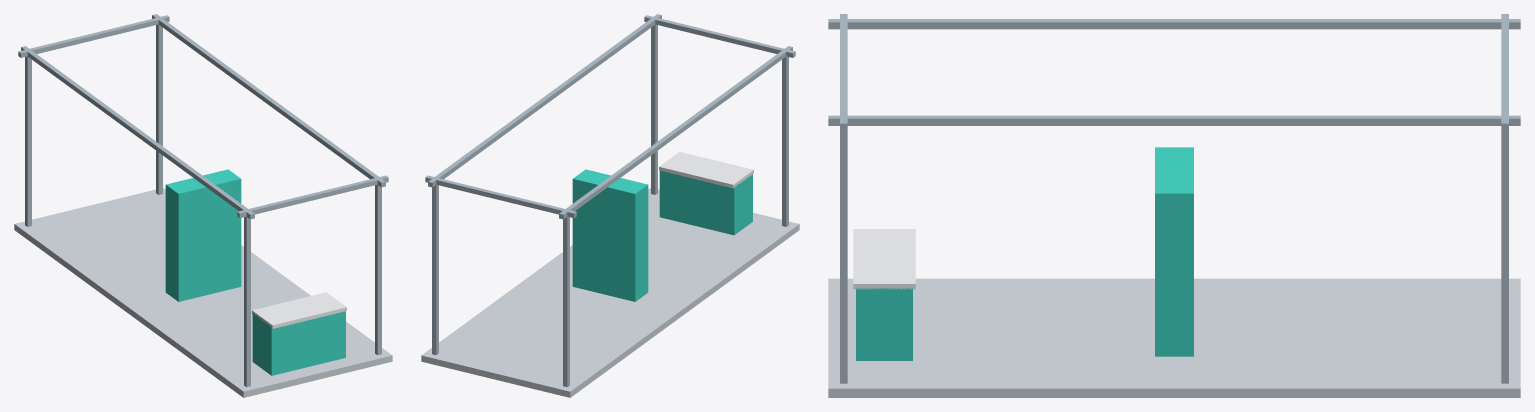
3 renders of one model, left to right at view 1: azimuth 30°, elevation 25°; view 2: azimuth 150°, elevation 25°; view 3: azimuth 270°, elevation 25°, orthographic. The views are drawn at different scales.
Parts seen in each view (by area): view 1: Exhibition Booth Concept; view 2: Exhibition Booth Concept; view 3: Exhibition Booth Concept.
Part boxes in pixels (left/top/right/bottom): Exhibition Booth Concept: left=14, top=14, right=392, bottom=397; Exhibition Booth Concept: left=421, top=14, right=799, bottom=397; Exhibition Booth Concept: left=828, top=14, right=1520, bottom=397.
Size of the model in its own units: 3 by 3.49 by 8.
